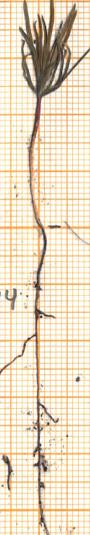flower: (3, 0, 90, 102)
root: (0, 227, 63, 535)
stem: (24, 98, 51, 229)
